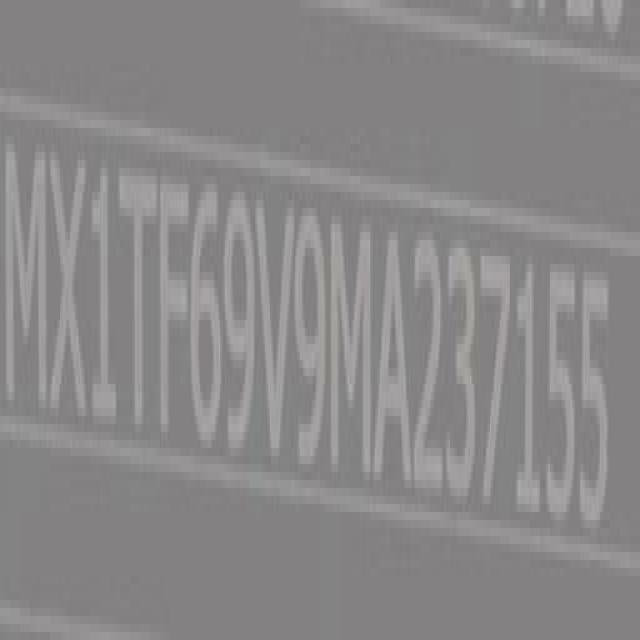1: (92, 154, 120, 441), (517, 243, 541, 528)
2: (415, 224, 445, 503)
3: (448, 232, 478, 513)
5: (582, 262, 614, 539), (548, 257, 578, 534)
6: (192, 177, 224, 457)
7: (481, 233, 512, 516)
9: (223, 182, 255, 466), (296, 197, 327, 481)
A: (378, 218, 412, 494)
F: (157, 178, 190, 462)
M: (2, 127, 48, 426), (331, 205, 376, 487)
T: (120, 156, 158, 446)
V: (256, 190, 294, 472)
X: (48, 136, 87, 434)
